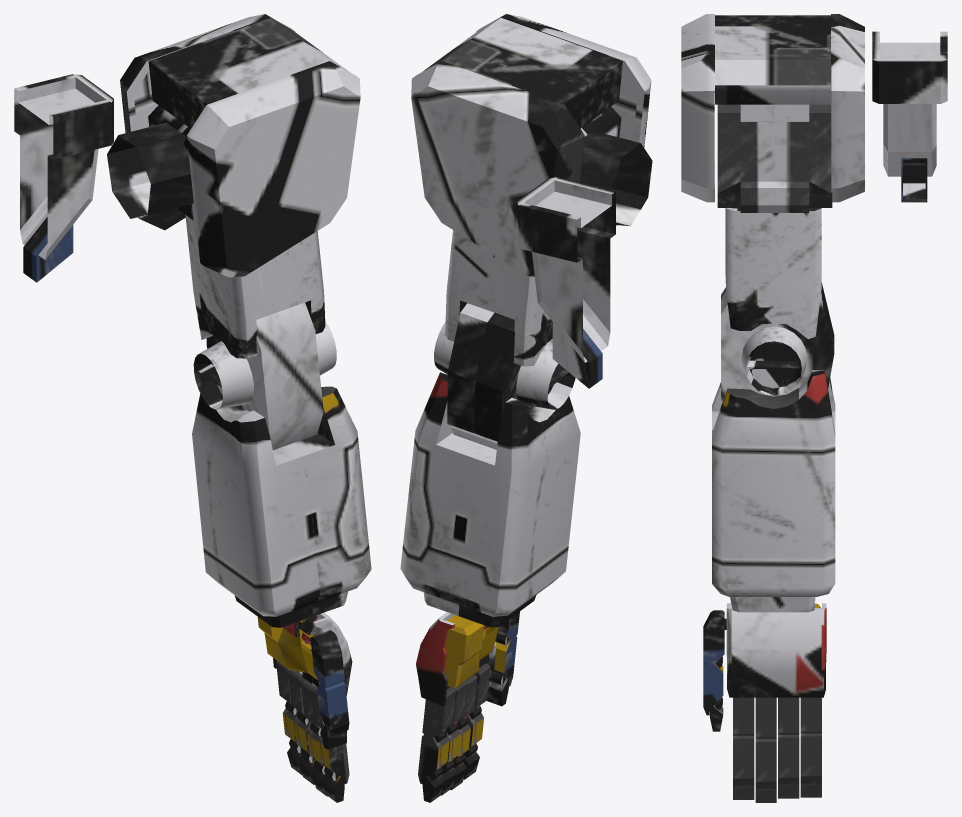
Rendered from lefthand.obj.
3 views of the same model, side by side, from view 1: azimuth 30°, elevation 25°; view 2: azimuth 150°, elevation 25°; view 3: azimuth 270°, elevation 25° (orthographic). The views are drawn at different scales.
Visible parts, largest first — view 1: Gundam:polySurface666 polySurface13, polySurface9 Gundam:polySurface666, Gundam:polySurface666 polySurface59, Gundam:polySurface666 polySurface12, Gundam:polySurface666 polySurface15, Gundam:polySurface666 polySurface17, Gundam:polySurface666 polySurface58, Gundam:polySurface666 polySurface11, Gundam:polySurface666 polySurface68, Gundam:polySurface666 polySurface16, Gundam:polySurface666 polySurface67, Gundam:polySurface666 polySurface61 (+7 smaller); view 2: Gundam:polySurface666 polySurface13, Gundam:polySurface666 polySurface11, Gundam:polySurface666 polySurface59, Gundam:polySurface666 polySurface12, Gundam:polySurface666 polySurface17, Gundam:polySurface666 polySurface15, Gundam:polySurface666 polySurface58, polySurface9 Gundam:polySurface666, Gundam:polySurface666 polySurface67, Gundam:polySurface666 polySurface73, Gundam:polySurface666 polySurface16, Gundam:polySurface666 polySurface65 (+7 smaller); view 3: Gundam:polySurface666 polySurface13, Gundam:polySurface666 polySurface10, Gundam:polySurface666 polySurface15, Gundam:polySurface666 polySurface12, Gundam:polySurface666 polySurface65, Gundam:polySurface666 polySurface59, polySurface9 Gundam:polySurface666, Gundam:polySurface666 polySurface11, Gundam:polySurface666 polySurface17, Gundam:polySurface666 polySurface14, Gundam:polySurface666 polySurface71, Gundam:polySurface666 polySurface70 (+4 smaller).
Part boxes in pixels (x1,y1,x2,y2): Gundam:polySurface666 polySurface13: (192, 386, 371, 627); polySurface9 Gundam:polySurface666: (186, 61, 360, 277); Gundam:polySurface666 polySurface59: (14, 74, 113, 259); Gundam:polySurface666 polySurface12: (148, 18, 348, 128); Gundam:polySurface666 polySurface15: (185, 215, 325, 358); Gundam:polySurface666 polySurface17: (206, 302, 323, 449); Gundam:polySurface666 polySurface58: (107, 122, 193, 218); Gundam:polySurface666 polySurface11: (120, 14, 295, 230); Gundam:polySurface666 polySurface68: (310, 630, 349, 749); Gundam:polySurface666 polySurface16: (193, 341, 253, 409); Gundam:polySurface666 polySurface67: (257, 615, 320, 679); Gundam:polySurface666 polySurface61: (23, 217, 73, 282); Gundam:polySurface666 polySurface13: (400, 372, 580, 627); Gundam:polySurface666 polySurface11: (411, 61, 584, 276); Gundam:polySurface666 polySurface59: (516, 177, 615, 362); Gundam:polySurface666 polySurface12: (422, 18, 622, 128); Gundam:polySurface666 polySurface17: (447, 303, 552, 449); Gundam:polySurface666 polySurface15: (445, 230, 552, 366); Gundam:polySurface666 polySurface58: (580, 131, 652, 226); polySurface9 Gundam:polySurface666: (476, 14, 651, 225); Gundam:polySurface666 polySurface67: (444, 615, 498, 688); Gundam:polySurface666 polySurface73: (418, 687, 456, 802); Gundam:polySurface666 polySurface16: (516, 341, 575, 409); Gundam:polySurface666 polySurface65: (416, 612, 496, 706); Gundam:polySurface666 polySurface13: (712, 370, 835, 612); Gundam:polySurface666 polySurface10: (717, 65, 832, 212); Gundam:polySurface666 polySurface15: (725, 208, 821, 339); Gundam:polySurface666 polySurface12: (715, 15, 830, 104); Gundam:polySurface666 polySurface65: (726, 603, 826, 697); Gundam:polySurface666 polySurface59: (872, 31, 947, 176); polySurface9 Gundam:polySurface666: (681, 14, 714, 202); Gundam:polySurface666 polySurface11: (831, 14, 864, 202); Gundam:polySurface666 polySurface17: (721, 282, 834, 401); Gundam:polySurface666 polySurface14: (741, 326, 807, 395); Gundam:polySurface666 polySurface71: (755, 697, 776, 802); Gundam:polySurface666 polySurface70: (733, 697, 754, 799).
Size of the model in its own units: 4.05 by 12.02 by 3.96.
Materials: 1 (1 with a texture image).
